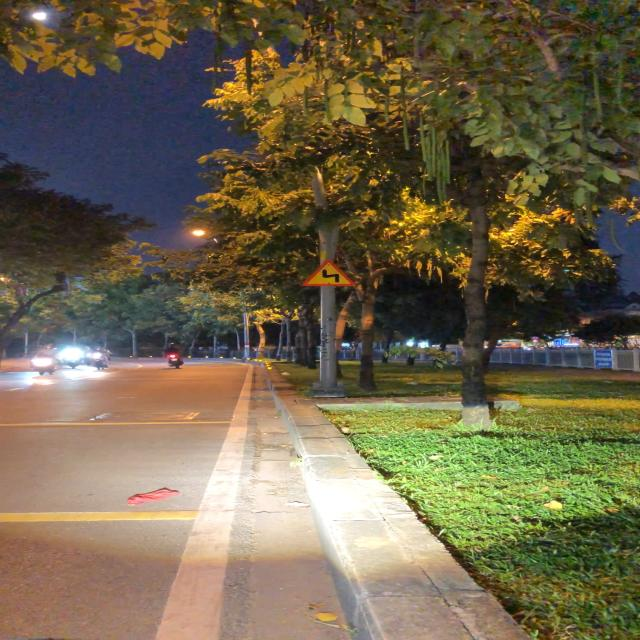Bien bao nhieu cho ngoat nguy hiem lien tiep: (299, 258, 362, 288)
